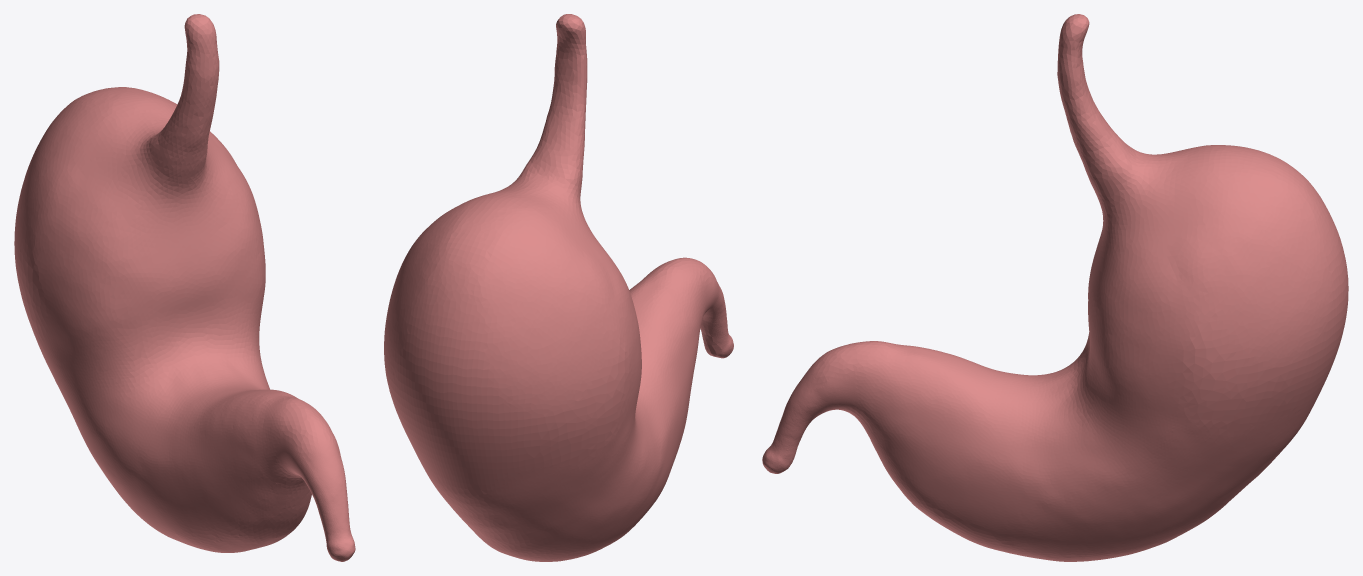
Rendered from lambung.fbx.
The picture shows the model from 3 angles, left to right: view 1: azimuth 30°, elevation 25°; view 2: azimuth 150°, elevation 25°; view 3: azimuth 270°, elevation 25°; orthographic projection. The views are drawn at different scales.
Visible parts, largest first — view 1: LAMBUNG; view 2: LAMBUNG; view 3: LAMBUNG.
Boxes of the visible parts, x1=… form: LAMBUNG: x1=14, y1=14, x2=355, y2=561; LAMBUNG: x1=384, y1=14, x2=733, y2=561; LAMBUNG: x1=762, y1=14, x2=1348, y2=561.
Size of the model in its own units: 5.35 by 12.18 by 12.03.
